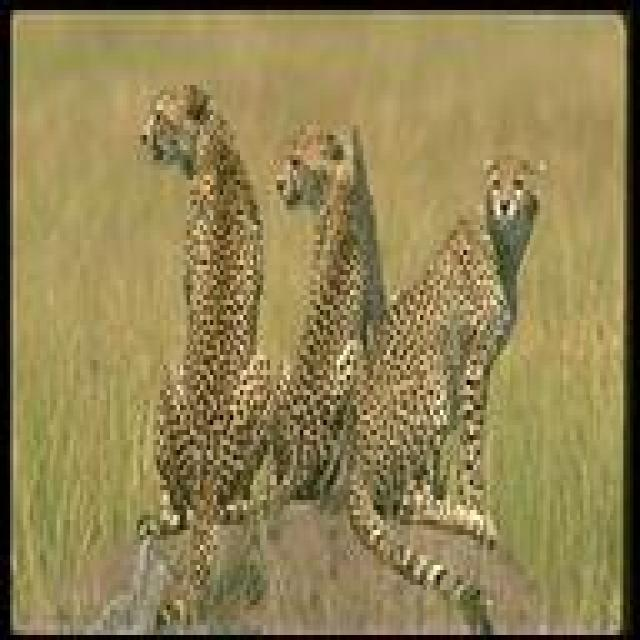Leopard: (344, 150, 554, 604)
